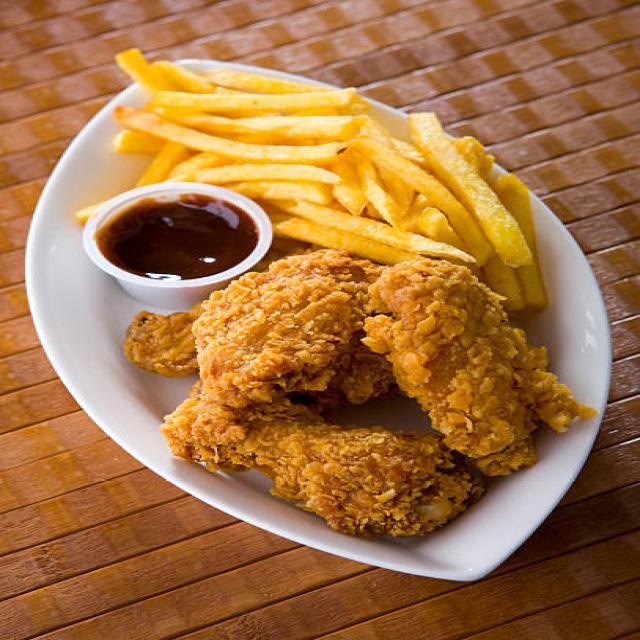ga ran va khoai tay chien: (39, 46, 597, 534)
khoai tay chien: (84, 45, 374, 176), (367, 105, 529, 265), (477, 171, 578, 313), (263, 181, 398, 250)
thit ga: (137, 389, 504, 533), (207, 245, 500, 399), (353, 248, 563, 460), (111, 298, 204, 384)
